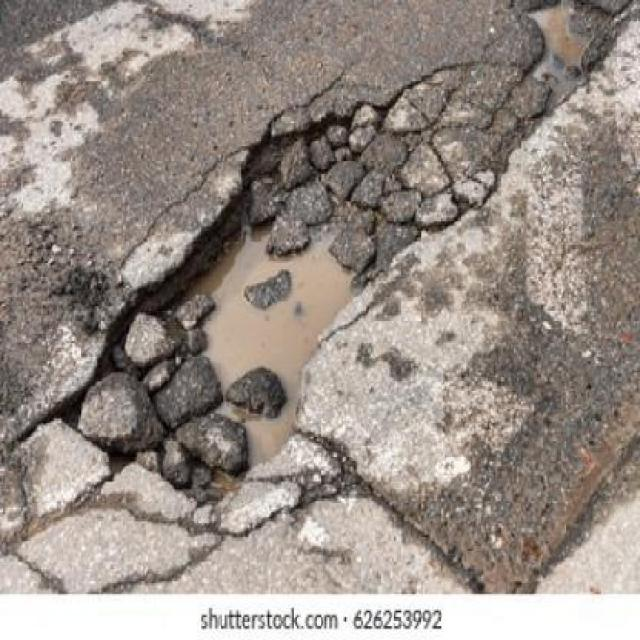Buraco: (33, 96, 396, 511), (512, 0, 640, 123)
